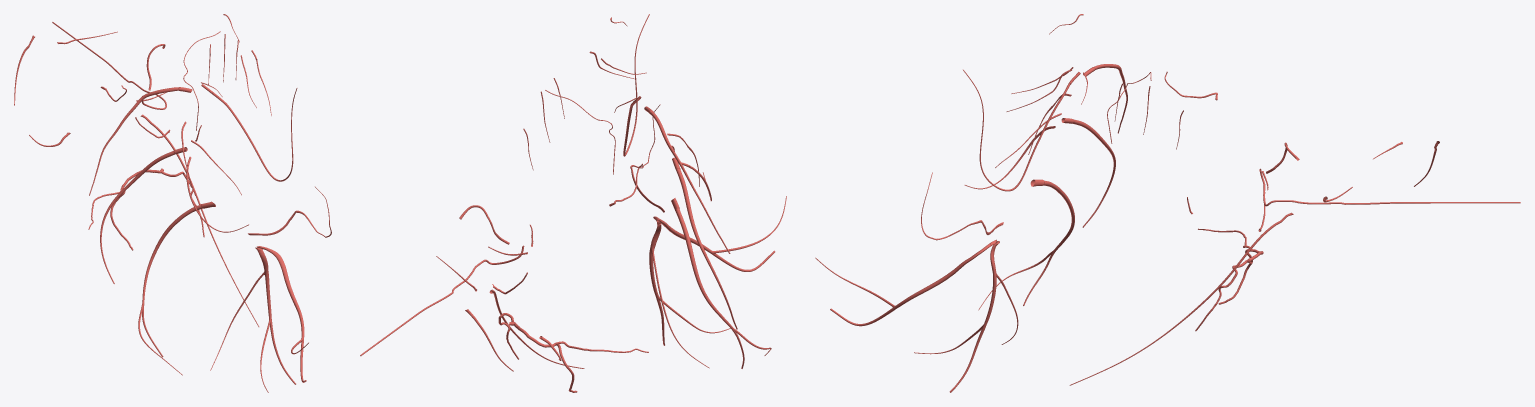
3 views of the same model, side by side, from view 1: azimuth 30°, elevation 25°; view 2: azimuth 150°, elevation 25°; view 3: azimuth 270°, elevation 25° (orthographic). The views are drawn at different scales.
Visible parts, largest first — view 1: PCA posterior inferior temporal left, PCA parieto-occipital left, PCA middle inferior temporal left, PCA calcarine left, PCA anterior inferior temporal left, Medial posterior choroidal left, Posterior meningeal VA left, Posterior spinal left, PCA splenial left, PICA hemispheric left; view 2: PCA posterior inferior temporal left, PCA middle inferior temporal left, PCA anterior inferior temporal left, PCA calcarine left, PCA parieto-occipital left, Posterior spinal left, Medial posterior choroidal left; view 3: PCA parieto-occipital left, Posterior spinal left, Medial posterior choroidal left, PCA posterior inferior temporal left, Posterior meningeal VA left.
Part boxes in pixels (left/top/right/bottom): PCA posterior inferior temporal left: left=142, top=201, right=215, bottom=357; PCA parieto-occipital left: left=257, top=246, right=306, bottom=382; PCA middle inferior temporal left: left=100, top=147, right=187, bottom=283; PCA calcarine left: left=255, top=247, right=295, bottom=384; PCA anterior inferior temporal left: left=89, top=87, right=192, bottom=195; Medial posterior choroidal left: left=201, top=84, right=297, bottom=181; Posterior meningeal VA left: left=140, top=114, right=259, bottom=326; Posterior spinal left: left=52, top=22, right=166, bottom=109; PCA splenial left: left=248, top=186, right=331, bottom=237; PICA hemispheric left: left=110, top=168, right=163, bottom=250; PCA posterior inferior temporal left: left=671, top=198, right=744, bottom=368; PCA middle inferior temporal left: left=672, top=157, right=737, bottom=329; PCA anterior inferior temporal left: left=644, top=106, right=730, bottom=253; PCA calcarine left: left=649, top=222, right=664, bottom=345; PCA parieto-occipital left: left=653, top=216, right=775, bottom=271; Posterior spinal left: left=360, top=245, right=524, bottom=356; Medial posterior choroidal left: left=623, top=14, right=649, bottom=156; PCA parieto-occipital left: left=830, top=239, right=998, bottom=326; Posterior spinal left: left=1259, top=168, right=1520, bottom=206; Medial posterior choroidal left: left=963, top=69, right=1080, bottom=191; PCA posterior inferior temporal left: left=1023, top=179, right=1074, bottom=305; Posterior meningeal VA left: left=1069, top=212, right=1293, bottom=385.
Bounding box in the file's own units: 49.59 × 100 × 172.
